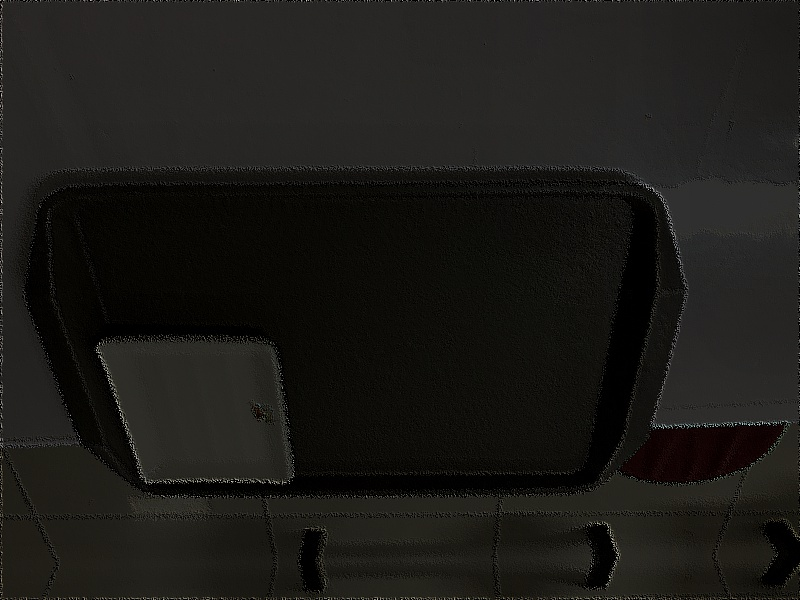dish4: (93, 326, 297, 492)
